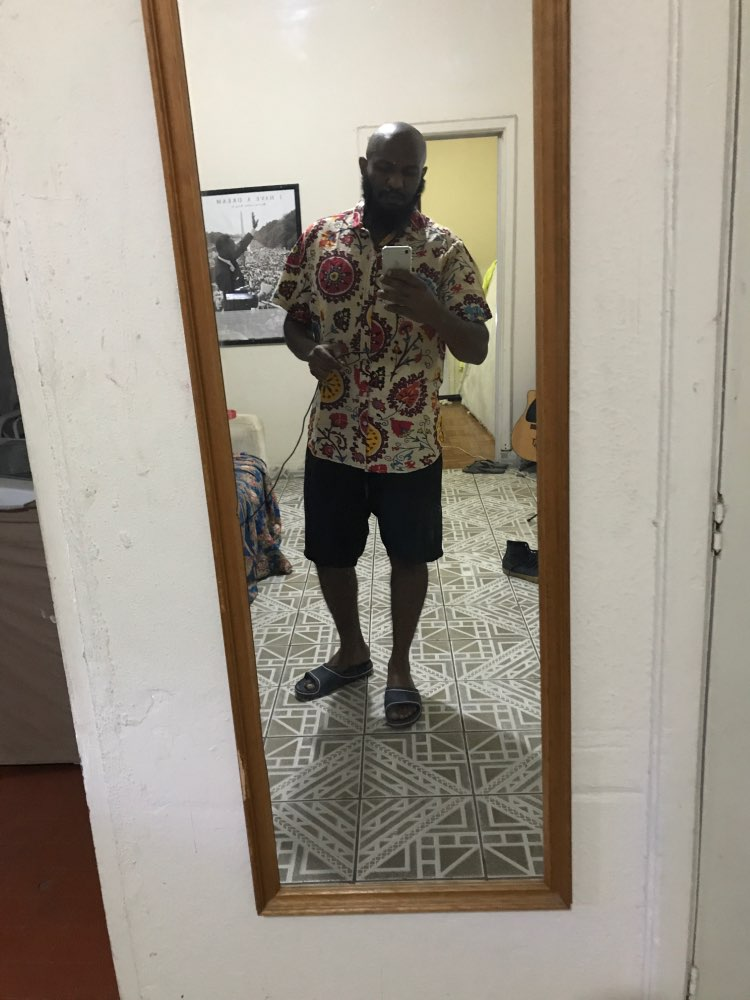shirts: (269, 208, 486, 471)
